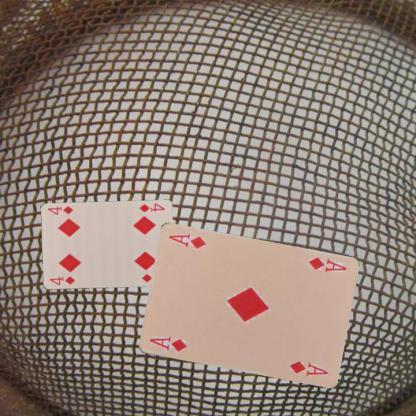4d: (136, 201, 166, 214), (46, 274, 76, 286)
Ad: (146, 333, 188, 353), (306, 254, 348, 274)
